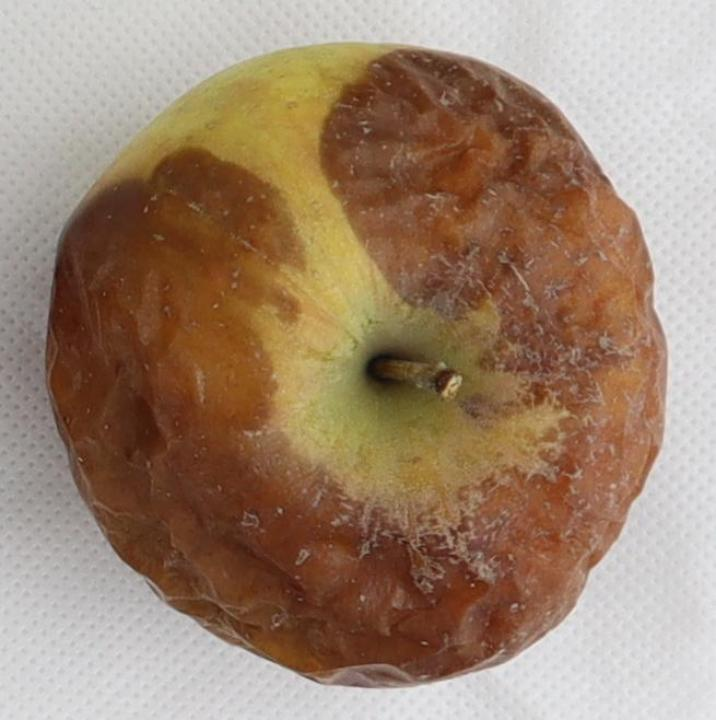apple: (47, 44, 665, 685)
rot_mold_decay: (48, 50, 665, 684)
